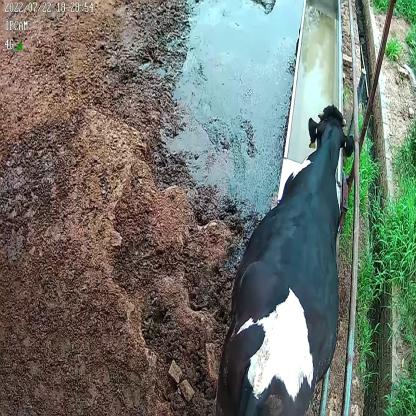cow: (214, 103, 356, 416)
